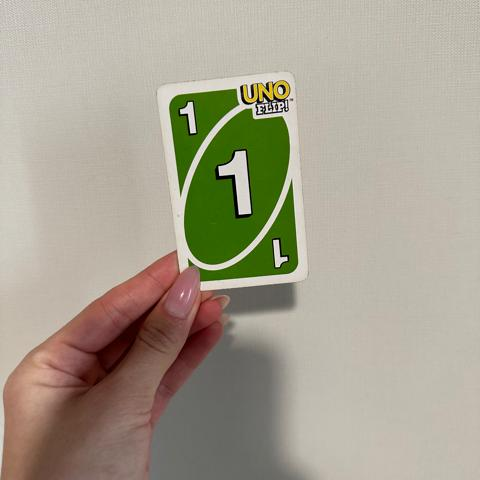lgreen-1: (166, 91, 210, 145)
